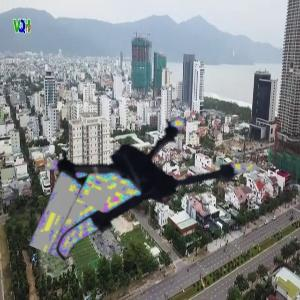drone: (47, 80, 256, 289)
